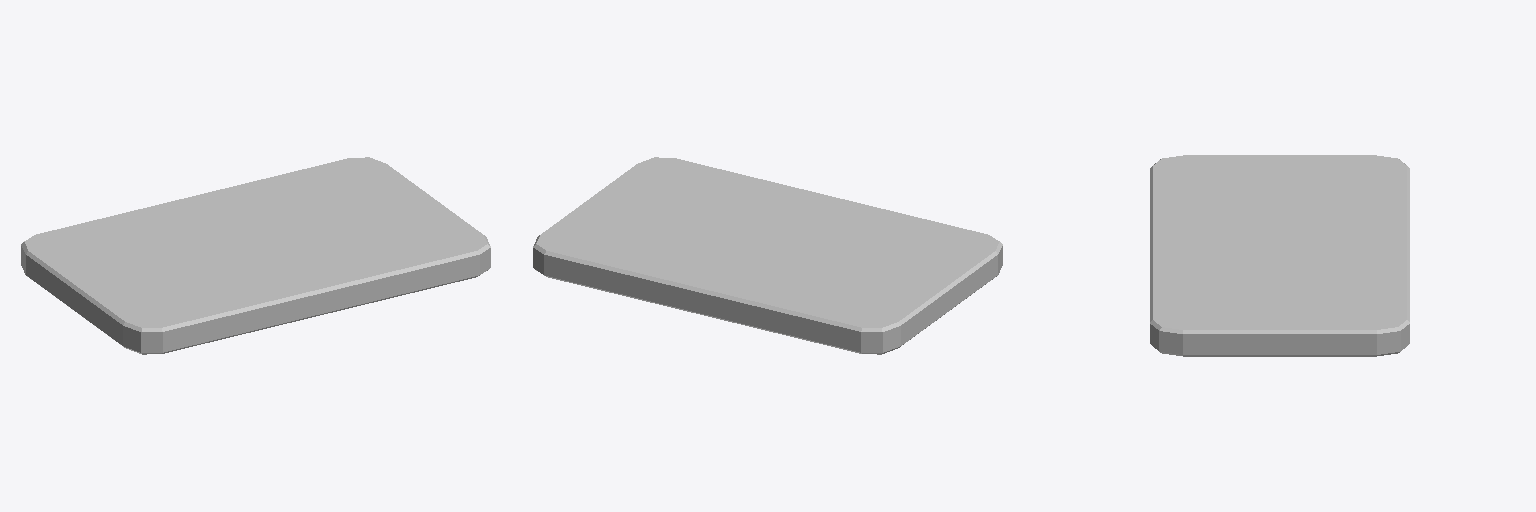
File: board_cutting_board_001.obj
3 renders of one model, left to right at view 1: azimuth 30°, elevation 25°; view 2: azimuth 150°, elevation 25°; view 3: azimuth 270°, elevation 25°, orthographic.
Visible parts, largest first — view 1: board_cutting_board.001_Cube.117; view 2: board_cutting_board.001_Cube.117; view 3: board_cutting_board.001_Cube.117.
Boxes of the visible parts, x1=… form: board_cutting_board.001_Cube.117: x1=21, y1=157, x2=490, y2=354; board_cutting_board.001_Cube.117: x1=533, y1=157, x2=1002, y2=354; board_cutting_board.001_Cube.117: x1=1150, y1=155, x2=1409, y2=356.
Bounding box in the file's own units: 4.93 × 0.3423 × 3.07.